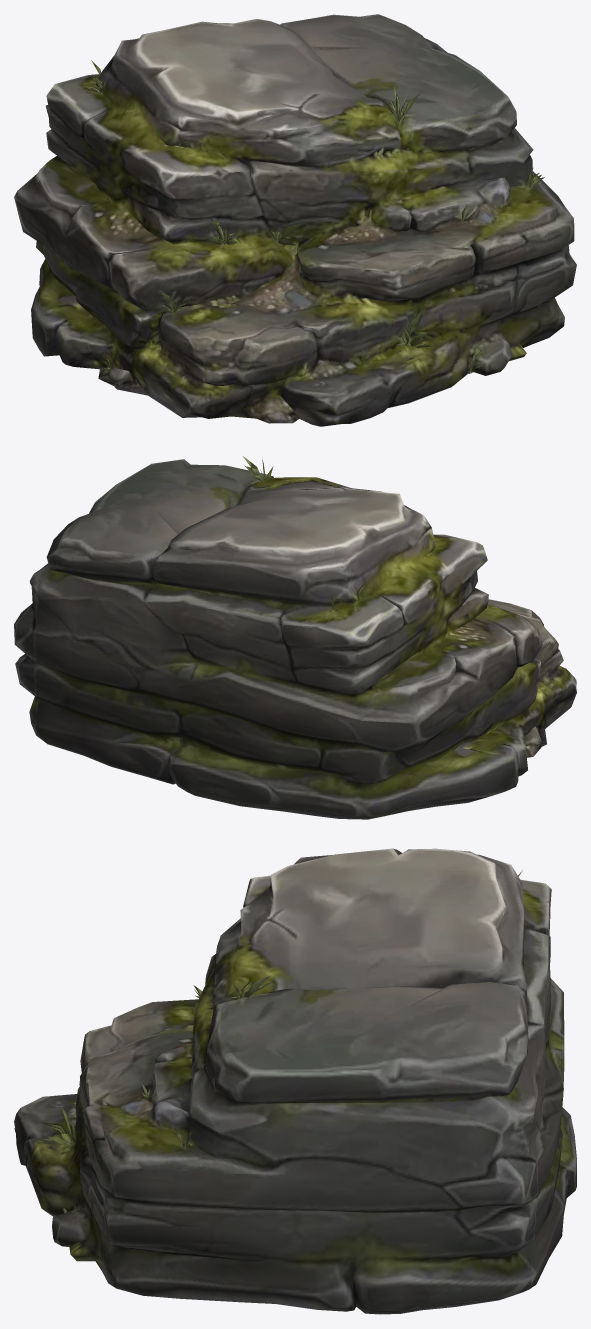
Rendered from slab.glb.
The picture shows the model from 3 angles, top to bottom: view 1: azimuth 30°, elevation 25°; view 2: azimuth 150°, elevation 25°; view 3: azimuth 270°, elevation 25°; orthographic projection. The views are drawn at different scales.
Size of the model in its own units: 0.9575 by 0.4863 by 0.8692.
Materials: 1 (1 with a texture image).
